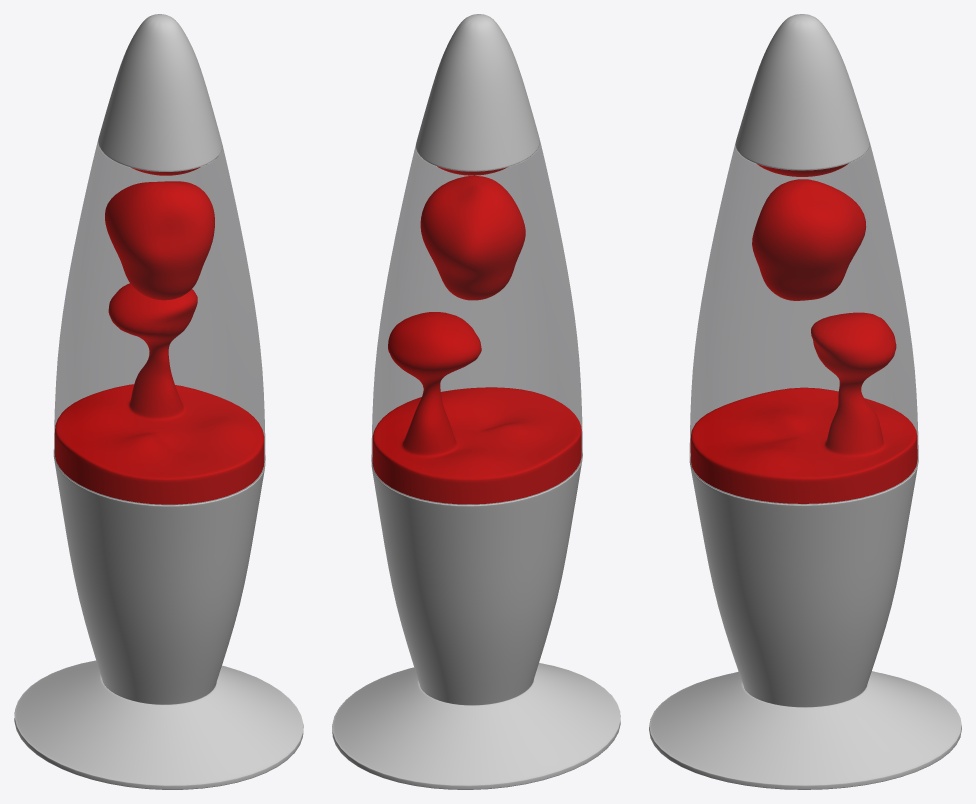
File: LAMPARA.obj
3 views of the same model, side by side, from view 1: azimuth 30°, elevation 25°; view 2: azimuth 150°, elevation 25°; view 3: azimuth 270°, elevation 25° (orthographic).
Visible parts, largest first — view 1: 11835_Lava_lamp_v2_l3_Lava_lamp_glass, 11835_Lava_lamp_v2_l3_Lava_lamp_metal_bottom, 11835_Lava_lamp_v2_l3_Lava_lamp_bubble_lava_3, 11835_Lava_lamp_v2_l3_Lava_lamp_metal_top, 11835_Lava_lamp_v2_l3_Lava_lamp_bubble_lava_2; view 2: 11835_Lava_lamp_v2_l3_Lava_lamp_glass, 11835_Lava_lamp_v2_l3_Lava_lamp_metal_bottom, 11835_Lava_lamp_v2_l3_Lava_lamp_bubble_lava_3, 11835_Lava_lamp_v2_l3_Lava_lamp_metal_top, 11835_Lava_lamp_v2_l3_Lava_lamp_bubble_lava_2; view 3: 11835_Lava_lamp_v2_l3_Lava_lamp_glass, 11835_Lava_lamp_v2_l3_Lava_lamp_metal_bottom, 11835_Lava_lamp_v2_l3_Lava_lamp_bubble_lava_3, 11835_Lava_lamp_v2_l3_Lava_lamp_metal_top, 11835_Lava_lamp_v2_l3_Lava_lamp_bubble_lava_2.
Part boxes in pixels (x1=…): 11835_Lava_lamp_v2_l3_Lava_lamp_glass: x1=53, y1=140, x2=265, y2=505; 11835_Lava_lamp_v2_l3_Lava_lamp_metal_bottom: x1=14, y1=449, x2=303, y2=789; 11835_Lava_lamp_v2_l3_Lava_lamp_bubble_lava_3: x1=55, y1=283, x2=264, y2=504; 11835_Lava_lamp_v2_l3_Lava_lamp_metal_top: x1=98, y1=14, x2=222, y2=171; 11835_Lava_lamp_v2_l3_Lava_lamp_bubble_lava_2: x1=105, y1=181, x2=214, y2=300; 11835_Lava_lamp_v2_l3_Lava_lamp_glass: x1=371, y1=141, x2=582, y2=504; 11835_Lava_lamp_v2_l3_Lava_lamp_metal_bottom: x1=332, y1=450, x2=620, y2=789; 11835_Lava_lamp_v2_l3_Lava_lamp_bubble_lava_3: x1=372, y1=312, x2=581, y2=504; 11835_Lava_lamp_v2_l3_Lava_lamp_metal_top: x1=415, y1=14, x2=539, y2=171; 11835_Lava_lamp_v2_l3_Lava_lamp_bubble_lava_2: x1=420, y1=175, x2=525, y2=300; 11835_Lava_lamp_v2_l3_Lava_lamp_glass: x1=689, y1=142, x2=918, y2=504; 11835_Lava_lamp_v2_l3_Lava_lamp_metal_bottom: x1=649, y1=456, x2=961, y2=789; 11835_Lava_lamp_v2_l3_Lava_lamp_bubble_lava_3: x1=690, y1=312, x2=917, y2=503; 11835_Lava_lamp_v2_l3_Lava_lamp_metal_top: x1=735, y1=14, x2=869, y2=170; 11835_Lava_lamp_v2_l3_Lava_lamp_bubble_lava_2: x1=752, y1=179, x2=866, y2=300.
Bounding box in the file's own units: 0.9342 × 2.6 × 1.03.
